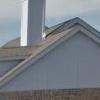Chimney: (16, 2, 55, 52)
